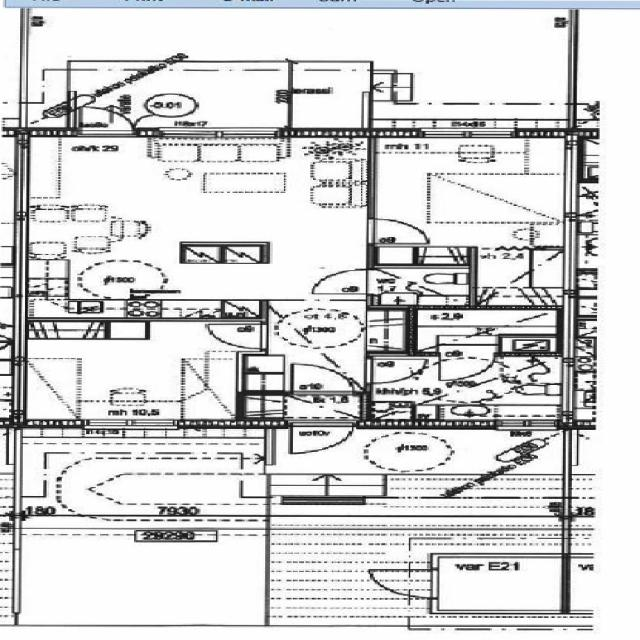door: (291, 419, 351, 456), (366, 569, 437, 597), (292, 363, 352, 395), (80, 104, 132, 137), (364, 218, 428, 244), (364, 359, 428, 383), (205, 324, 268, 348), (310, 269, 373, 293), (440, 352, 493, 380)
